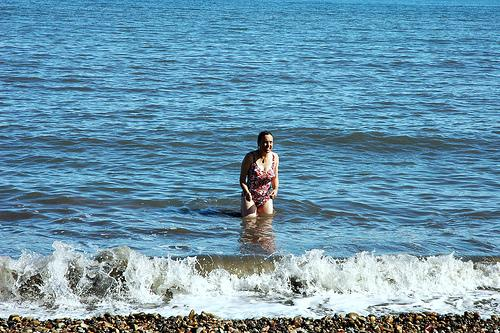swimmer: (238, 128, 283, 222)
